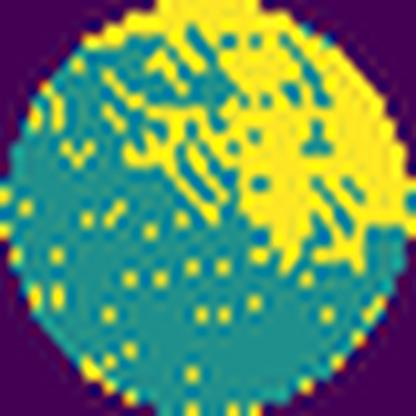Edge-Loc: (76, 0, 415, 275)
